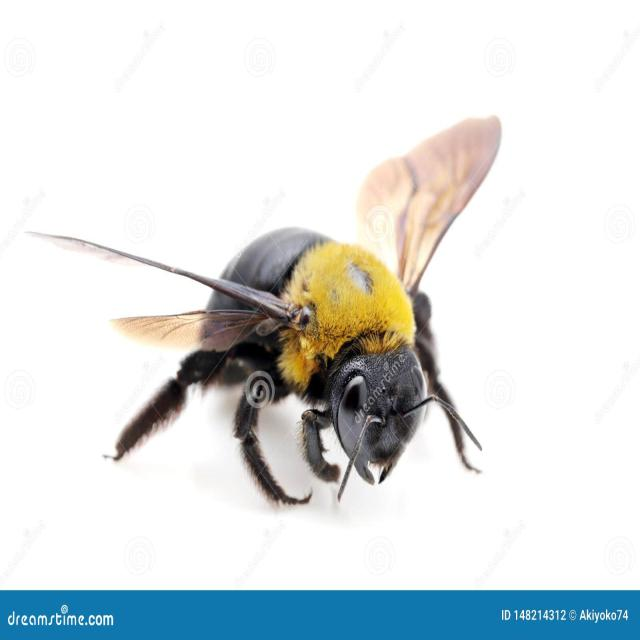Xylocopa: (16, 108, 510, 541)
